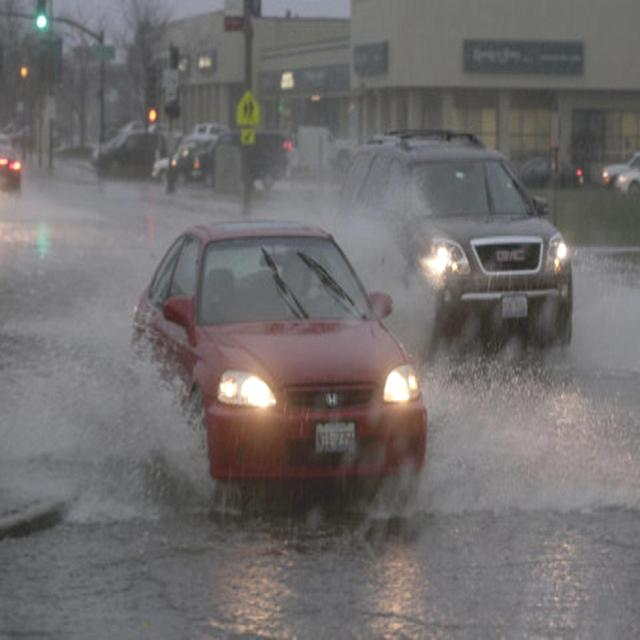Car: (128, 216, 432, 516), (330, 125, 570, 352)
